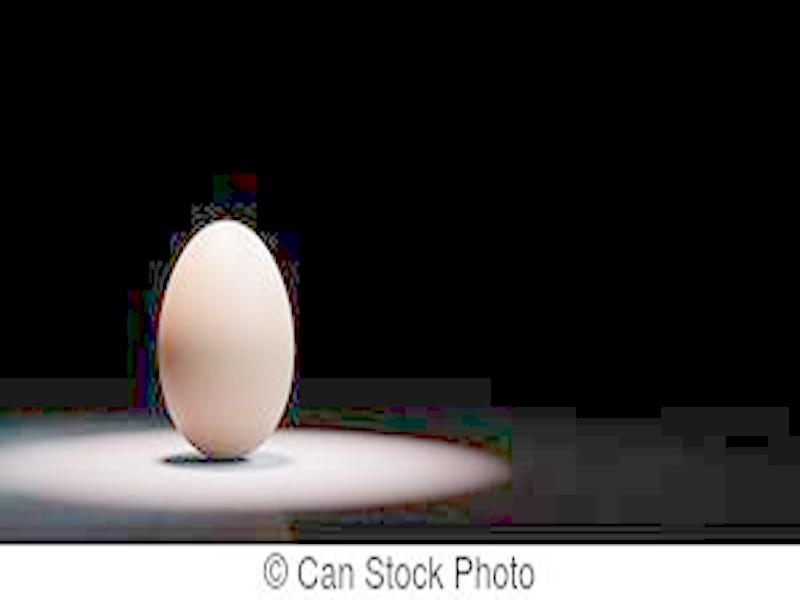Eggs: (155, 222, 293, 462)
